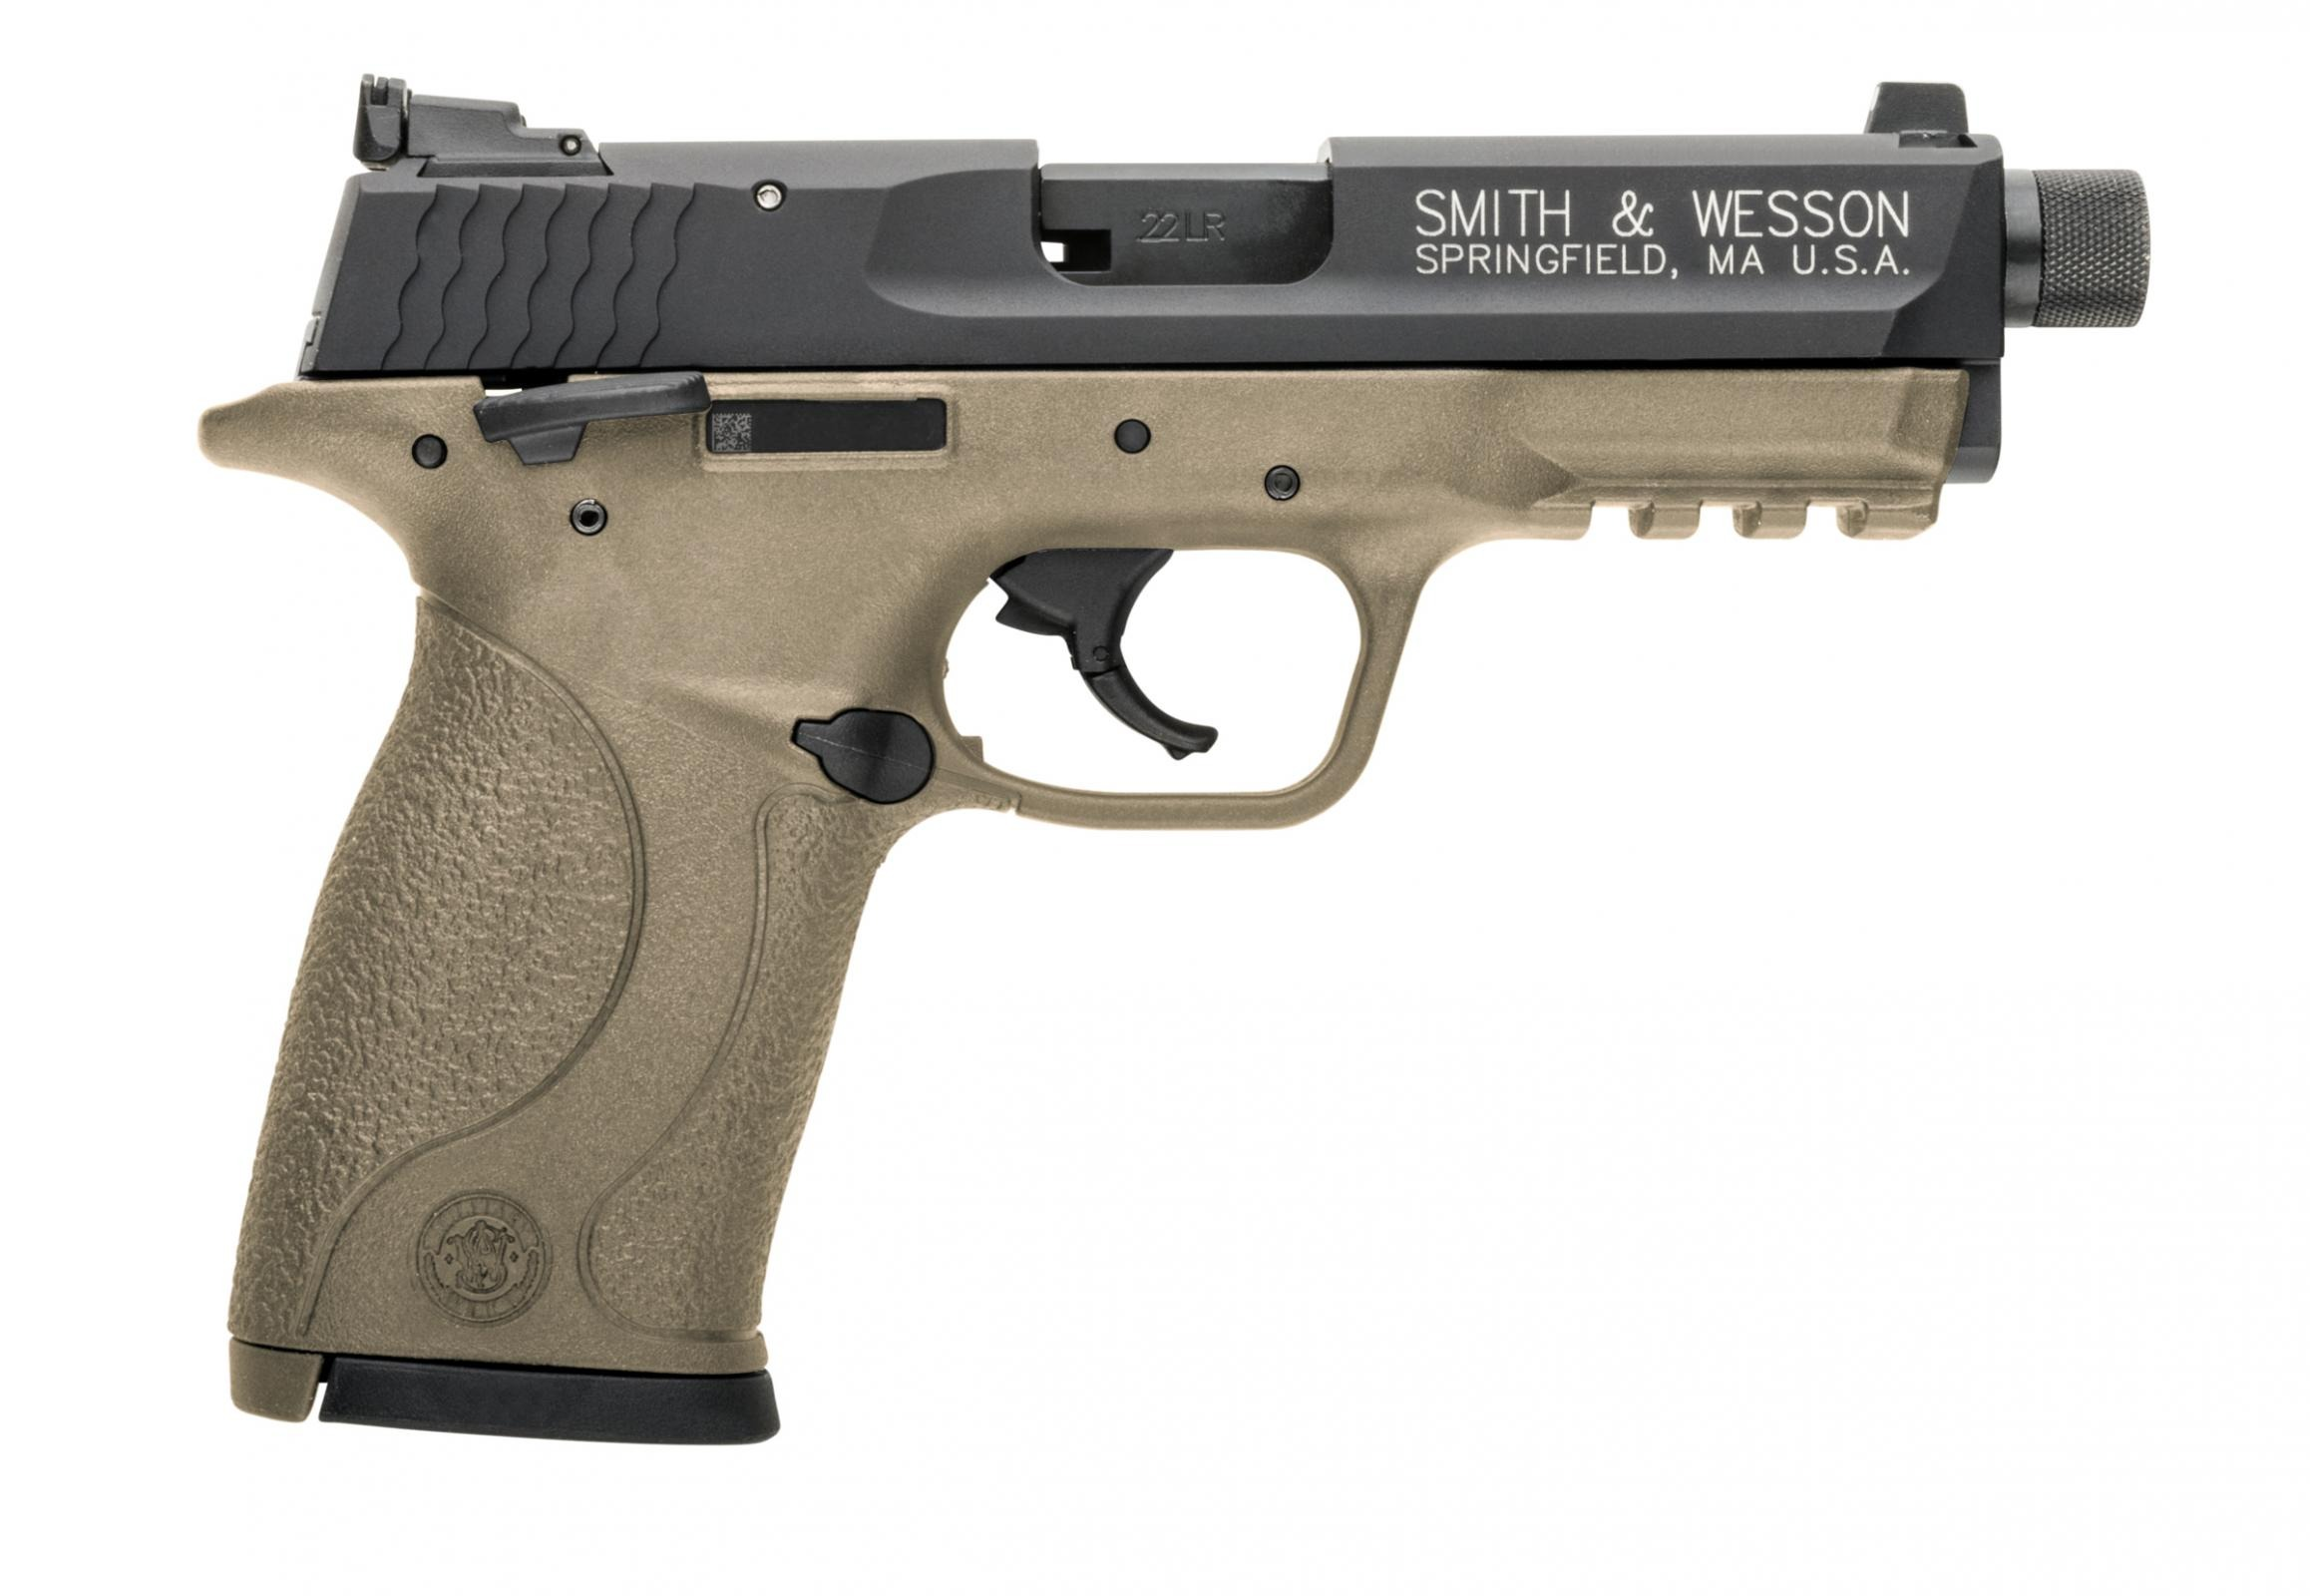gun: (219, 65, 2175, 1470)
